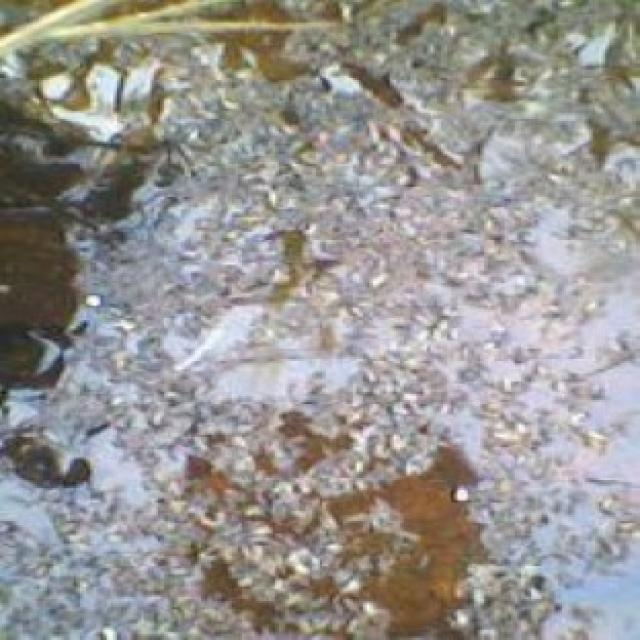brown plant hopper: (0, 6, 638, 638)
